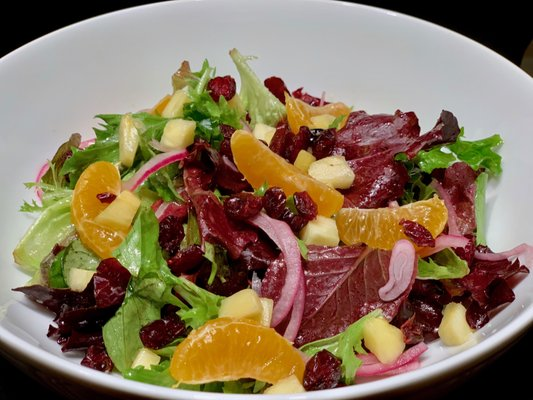sushi: (6, 0, 533, 400)
taco: (169, 319, 306, 389)
